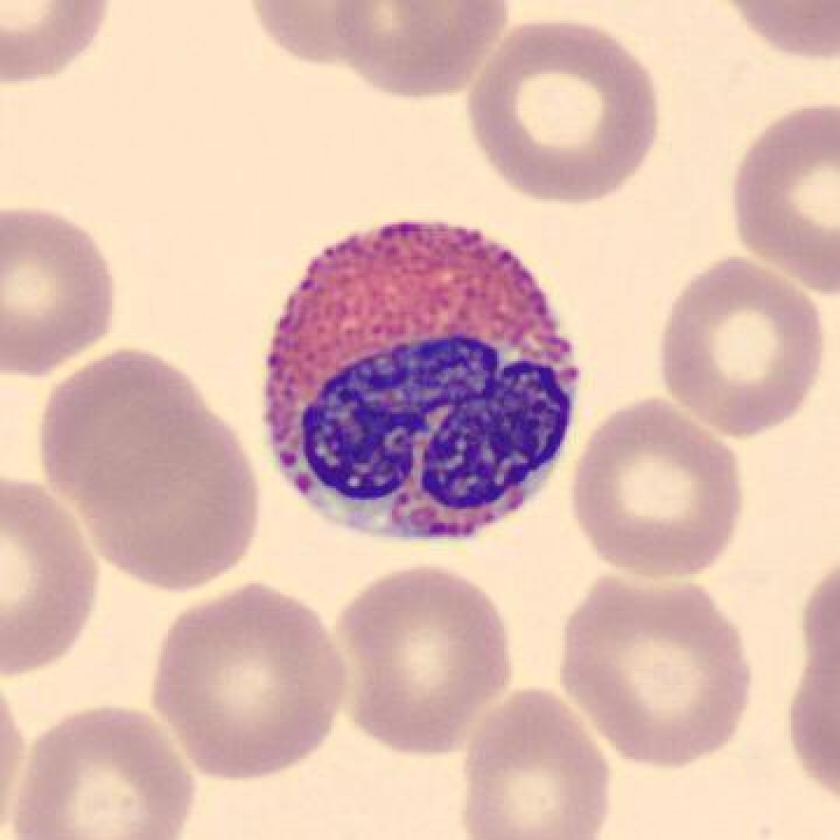eosinophil: (251, 205, 596, 552)
